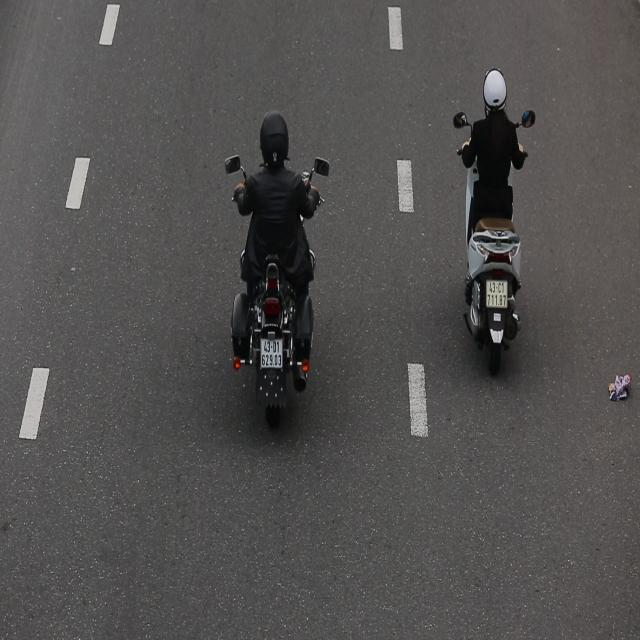motorbike: (222, 106, 334, 446), (451, 55, 535, 367)
